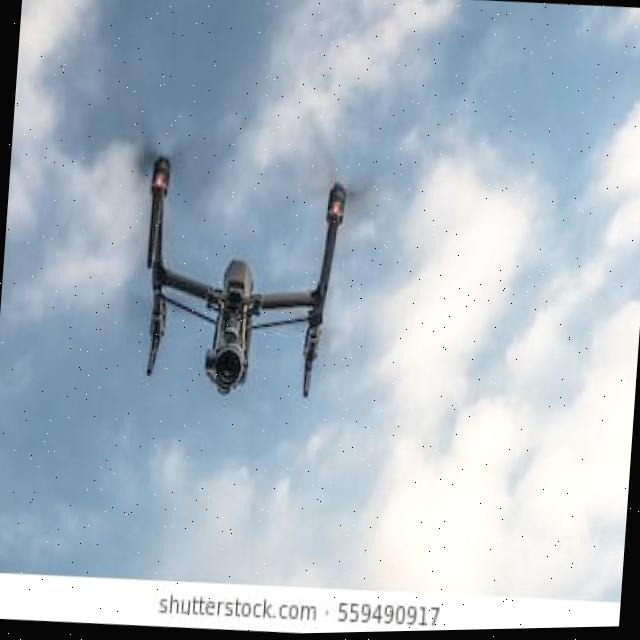drone: (86, 110, 396, 429)
